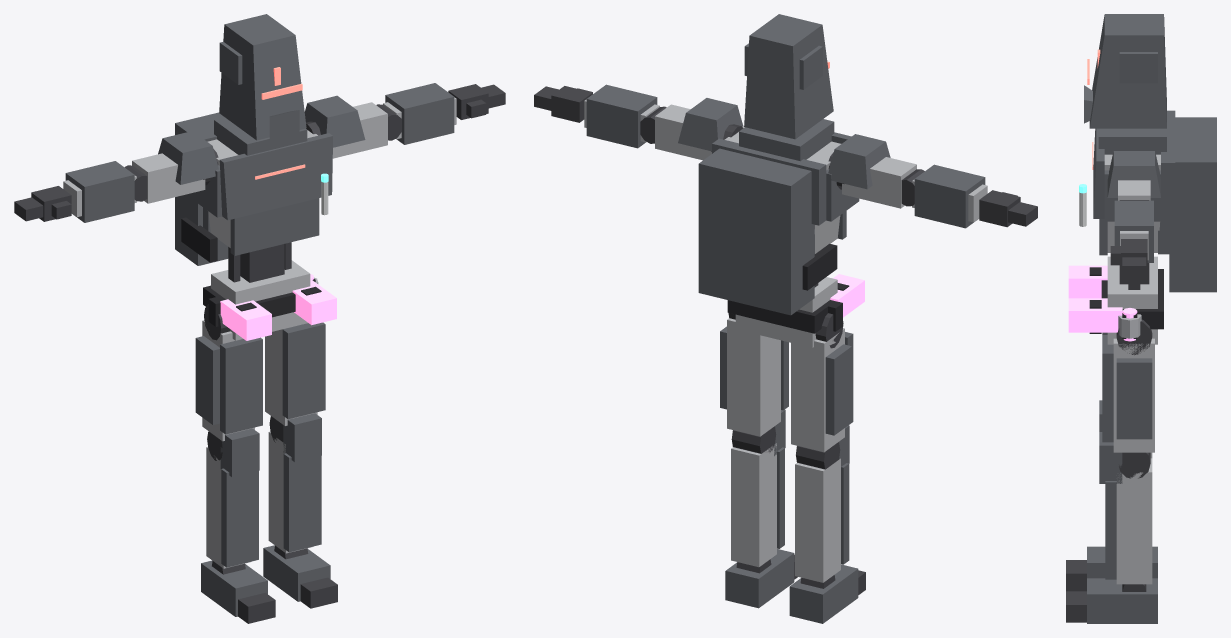
The model's file is char_F2_heavy.glb.
3 renders of one model, left to right at view 1: azimuth 30°, elevation 25°; view 2: azimuth 150°, elevation 25°; view 3: azimuth 270°, elevation 25°, orthographic. The views are drawn at different scales.
Visible parts, largest first — view 1: UpperChest_mesh, Head_mesh, LeftLowerLeg_mesh, RightLowerLeg_mesh, RightUpperLeg_mesh, LeftUpperLeg_mesh, Hips_mesh, Chest_mesh, RightUpperArm_mesh, RightLowerArm_mesh, LeftLowerArm_mesh, LeftUpperArm_mesh (+9 smaller); view 2: UpperChest_mesh, Head_mesh, RightLowerLeg_mesh, LeftLowerLeg_mesh, RightUpperLeg_mesh, LeftUpperLeg_mesh, RightUpperArm_mesh, RightLowerArm_mesh, Hips_mesh, LeftLowerArm_mesh, LeftUpperArm_mesh, RightFoot_mesh (+5 smaller); view 3: UpperChest_mesh, Head_mesh, LeftLowerLeg_mesh, LeftUpperLeg_mesh, LeftFoot_mesh, Hips_mesh, LeftUpperArm_mesh, LeftLowerArm_mesh, Slot_MagSlot_5, LeftHand_mesh, Slot_MagSlot_6, Chest_mesh (+6 smaller).
Boxes of the visible parts, x1=… form: UpperChest_mesh: x1=175, y1=112, x2=332, y2=265; Head_mesh: x1=219, y1=14, x2=306, y2=140; LeftLowerLeg_mesh: x1=268, y1=413, x2=321, y2=553; RightLowerLeg_mesh: x1=206, y1=428, x2=259, y2=568; RightUpperLeg_mesh: x1=195, y1=304, x2=262, y2=441; LeftUpperLeg_mesh: x1=265, y1=322, x2=325, y2=425; Hips_mesh: x1=203, y1=260, x2=321, y2=340; Chest_mesh: x1=203, y1=198, x2=319, y2=255; RightUpperArm_mesh: x1=132, y1=131, x2=218, y2=203; RightLowerArm_mesh: x1=63, y1=161, x2=147, y2=222; LeftLowerArm_mesh: x1=376, y1=83, x2=456, y2=144; LeftUpperArm_mesh: x1=304, y1=95, x2=387, y2=158; UpperChest_mesh: x1=698, y1=119, x2=859, y2=315; Head_mesh: x1=744, y1=14, x2=833, y2=139; RightLowerLeg_mesh: x1=795, y1=425, x2=849, y2=582; LeftLowerLeg_mesh: x1=731, y1=409, x2=785, y2=567; RightUpperLeg_mesh: x1=791, y1=313, x2=853, y2=452; LeftUpperLeg_mesh: x1=720, y1=313, x2=788, y2=436; RightUpperArm_mesh: x1=828, y1=134, x2=916, y2=208; RightLowerArm_mesh: x1=901, y1=164, x2=987, y2=228; Hips_mesh: x1=727, y1=277, x2=849, y2=347; LeftLowerArm_mesh: x1=584, y1=84, x2=666, y2=148; LeftUpperArm_mesh: x1=655, y1=98, x2=743, y2=160; RightFoot_mesh: x1=789, y1=564, x2=858, y2=623; UpperChest_mesh: x1=1092, y1=110, x2=1216, y2=292; Head_mesh: x1=1084, y1=14, x2=1166, y2=128; LeftLowerLeg_mesh: x1=1099, y1=432, x2=1152, y2=584; LeftUpperLeg_mesh: x1=1102, y1=319, x2=1154, y2=452; LeftFoot_mesh: x1=1087, y1=578, x2=1157, y2=623; Hips_mesh: x1=1089, y1=256, x2=1163, y2=344; LeftUpperArm_mesh: x1=1107, y1=151, x2=1160, y2=200; LeftLowerArm_mesh: x1=1114, y1=200, x2=1153, y2=262; Slot_MagSlot_5: x1=1068, y1=298, x2=1122, y2=332; LeftHand_mesh: x1=1110, y1=239, x2=1147, y2=277; Slot_MagSlot_6: x1=1068, y1=265, x2=1107, y2=298; Chest_mesh: x1=1099, y1=219, x2=1169, y2=255.
Size of the model in its own units: 1.69 by 1.88 by 0.447.
